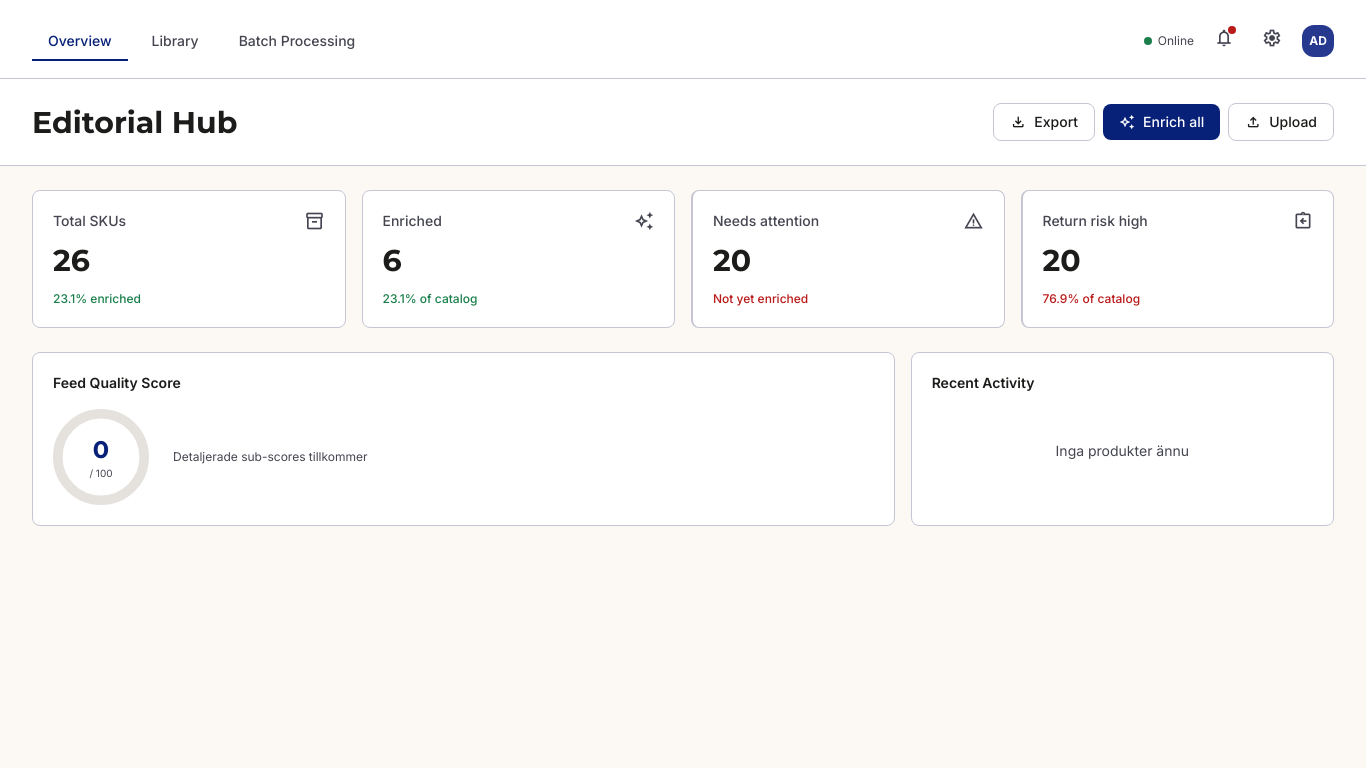
DashboardPage — Preflight flow › "Avbryt" anropar inte /enrich/bulk och återställer knappen till idle
Step 1. Click the button "Enrich all" → x=1162, y=122, box [1103,104,1220,140]
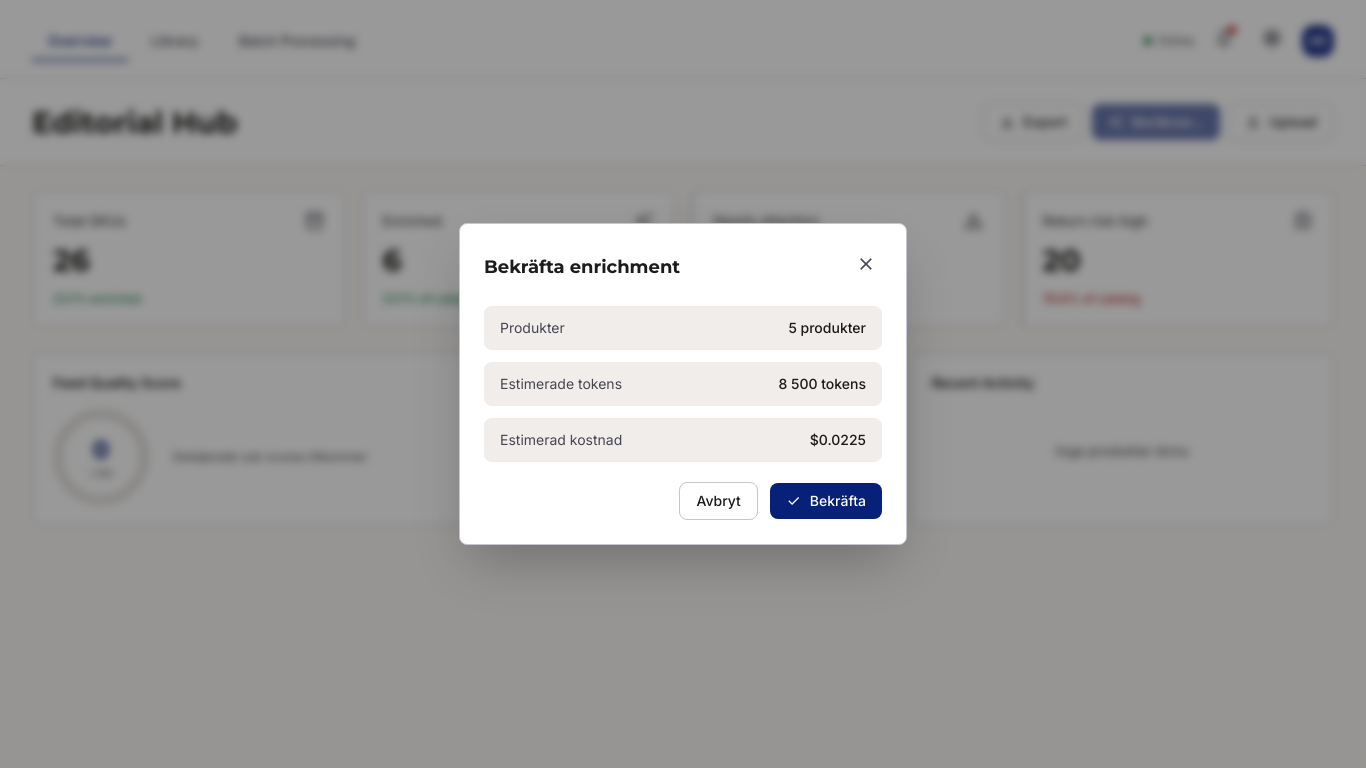
Step 2. Click the button "Avbryt" → x=719, y=501, box [680,482,758,520]
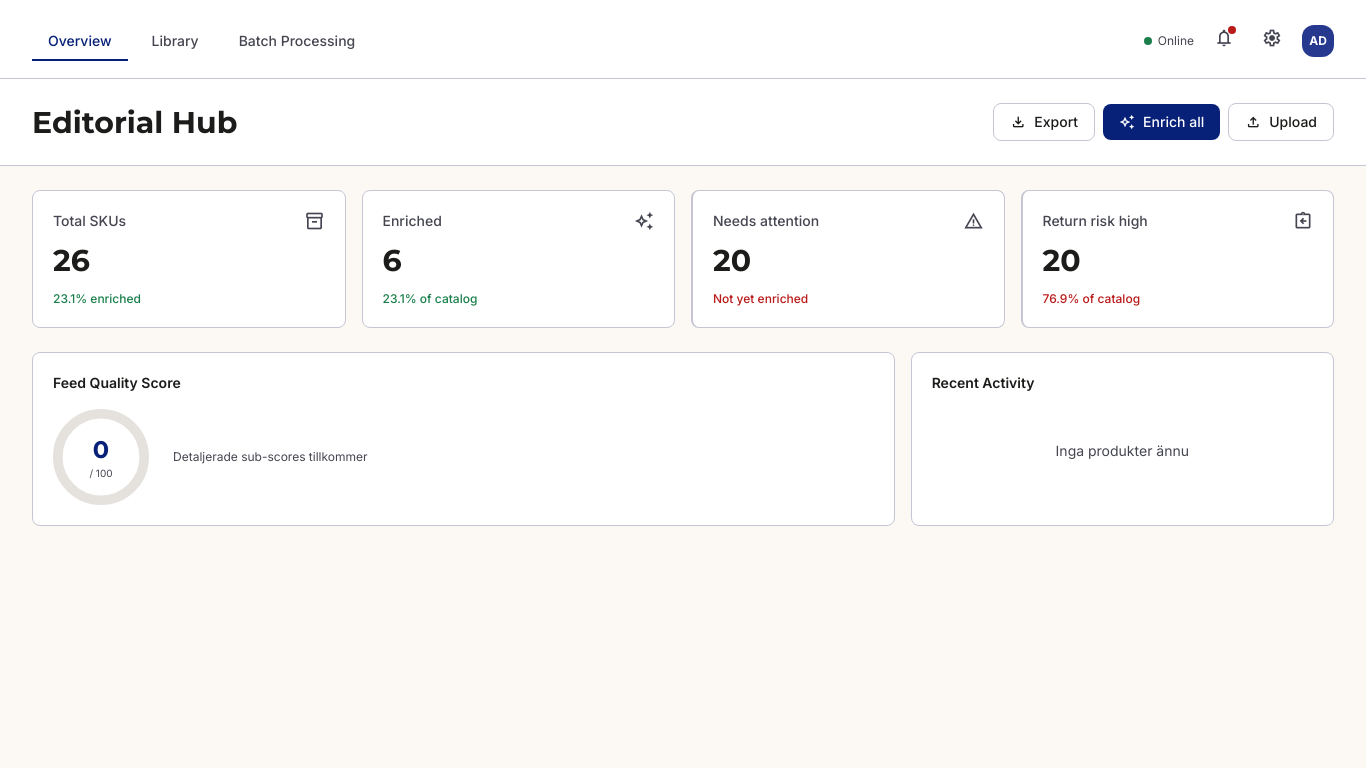
expect the button "Enrich all" is shown: met, box [1103,104,1220,140]
